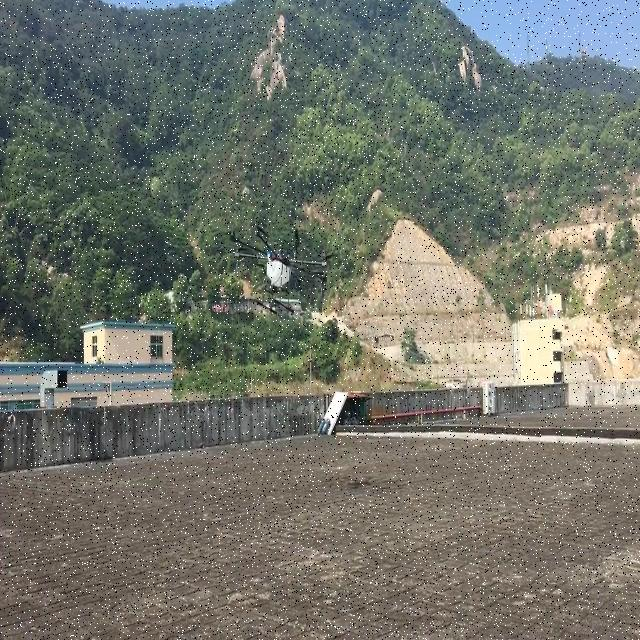UAV: (224, 224, 337, 315)
